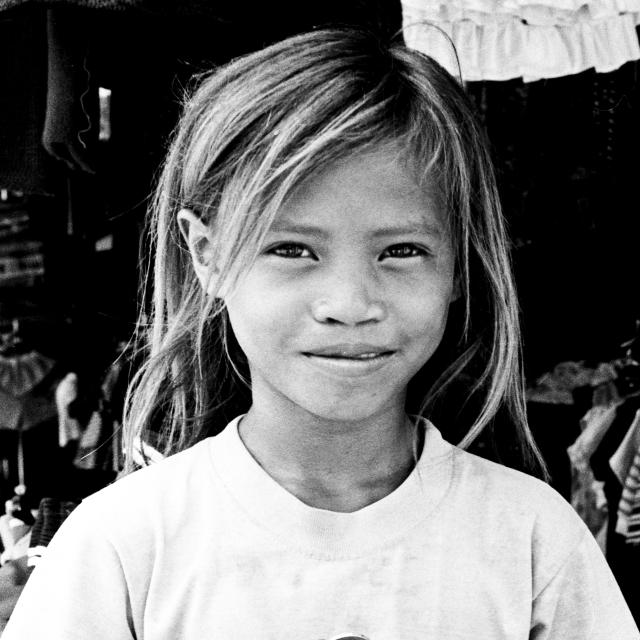no-glass: (247, 232, 442, 269)
